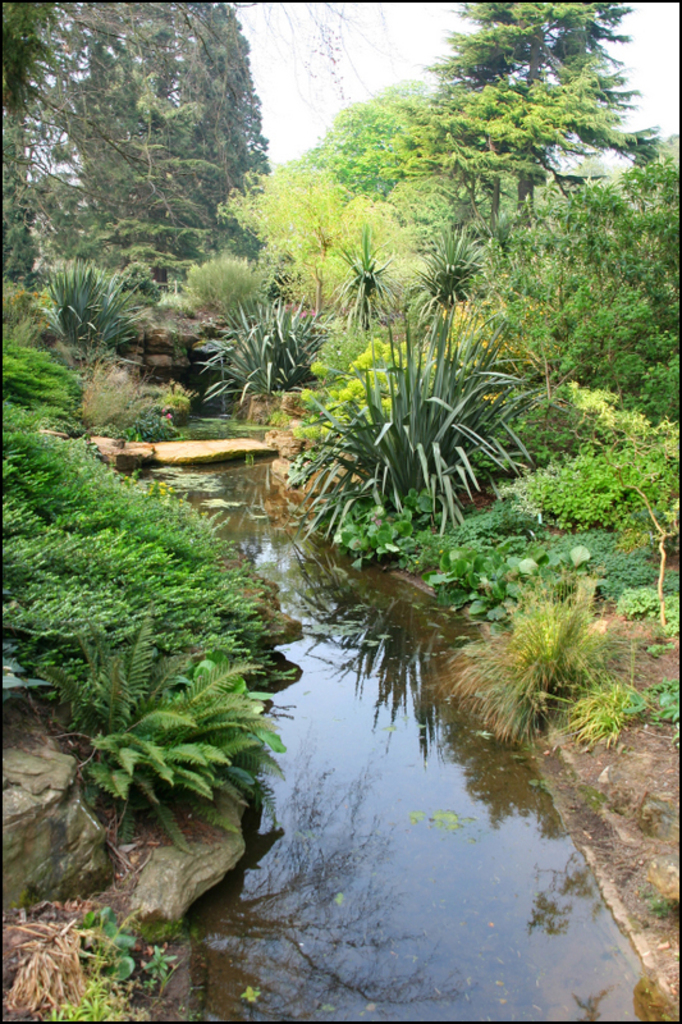Tree: (11, 24, 304, 345), (312, 0, 630, 239)
